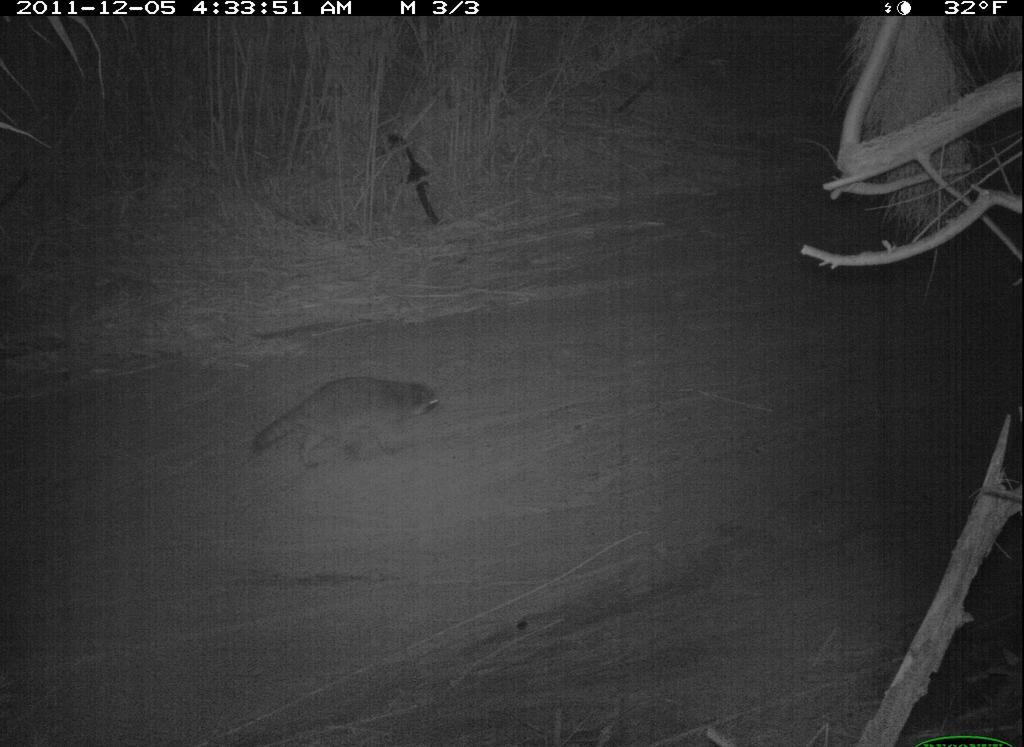raccoon: (245, 359, 455, 484)
